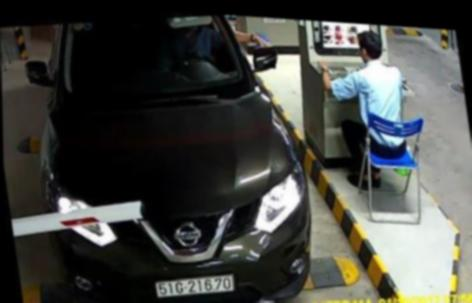License_Plate: (145, 263, 246, 303)
